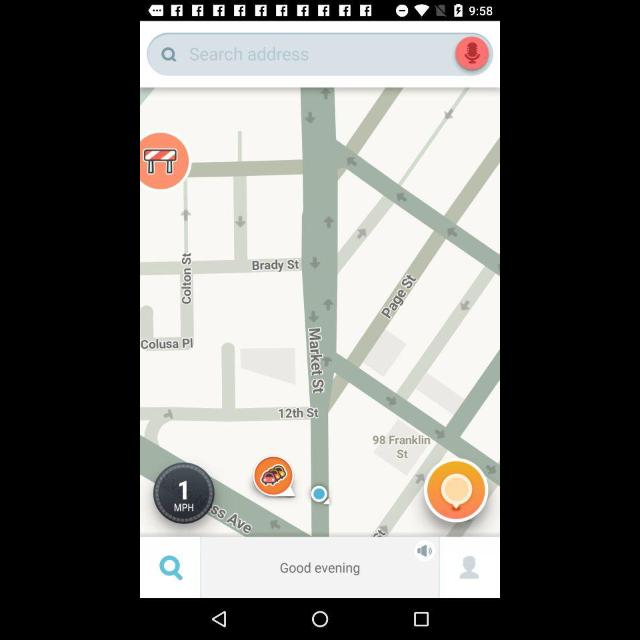icon: (455, 36, 489, 70), (158, 554, 186, 582), (458, 552, 480, 582), (208, 608, 228, 630), (415, 542, 437, 562), (412, 609, 432, 627), (310, 610, 328, 628)
input: (147, 33, 493, 76)
map: (142, 88, 498, 538)
panel: (140, 538, 500, 596), (141, 598, 499, 638)
text: (188, 44, 308, 66), (280, 561, 362, 577), (160, 47, 178, 65)
toolbar: (142, 22, 498, 88)
uppertaskbar: (140, 2, 498, 20)
